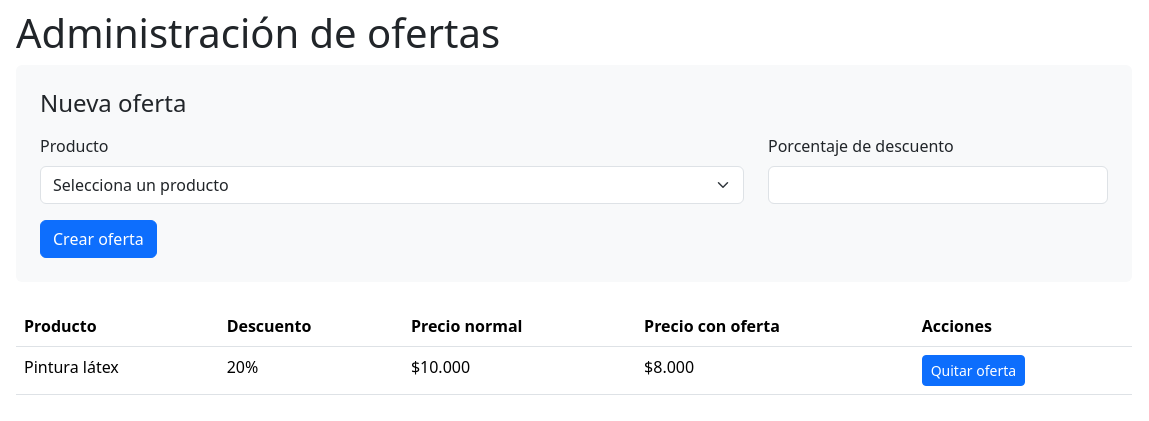
Test: AdminOfertas › quita una oferta después de confirmar
Check: the text "20%" is shown, box [219, 346, 403, 394]
Click the button "Quitar oferta" at {"x": 973, "y": 370}, box [922, 355, 1025, 386]
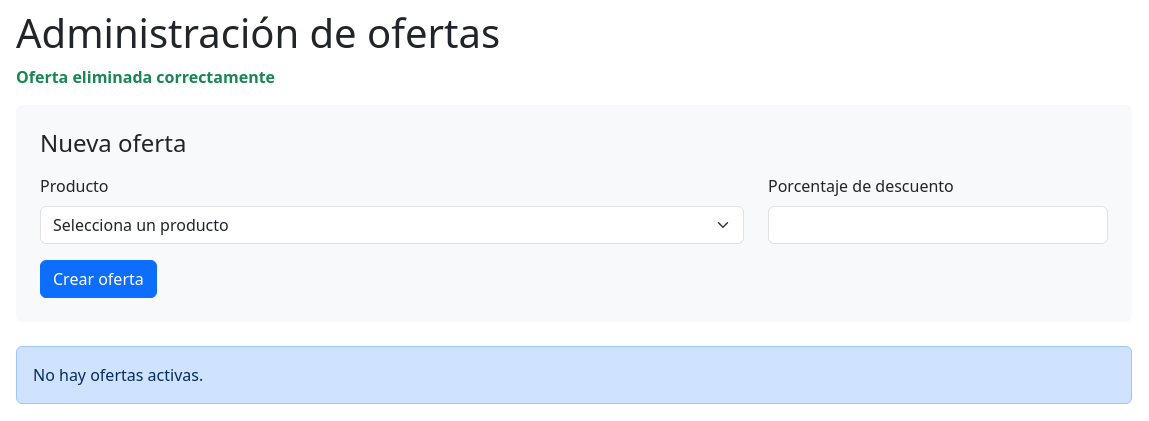
Check: the text "Oferta eliminada correctamente" is shown, box [16, 66, 275, 88]
Check: the text "No hay ofertas activas." is shown, box [16, 346, 1132, 404]
